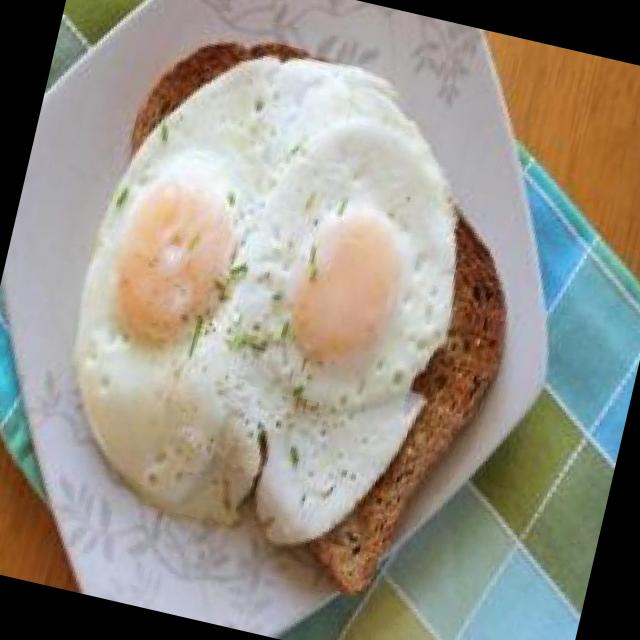fried_eggs: (35, 3, 505, 580)
